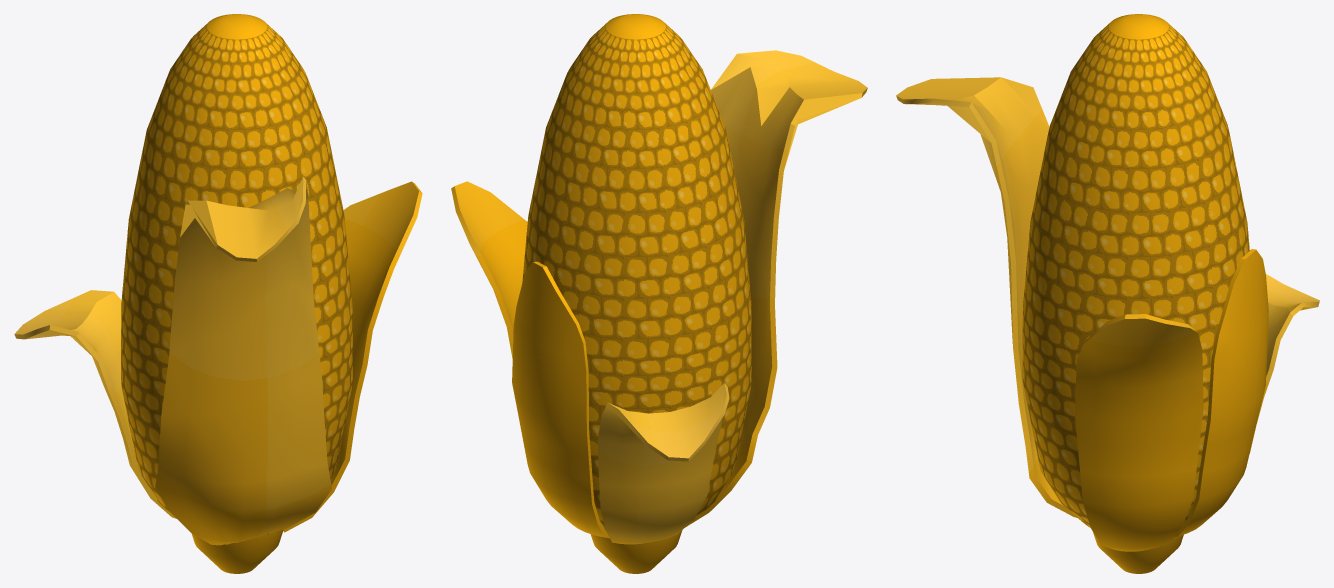
Rendered from Corn.fbx.
3 renders of one model, left to right at view 1: azimuth 30°, elevation 25°; view 2: azimuth 150°, elevation 25°; view 3: azimuth 270°, elevation 25°, orthographic.
Visible parts, largest first — view 1: Cylinder; view 2: Cylinder; view 3: Cylinder.
Part boxes in pixels (box(x1,y1,x2,y2)): Cylinder: box(14, 14, 422, 573); Cylinder: box(451, 14, 867, 573); Cylinder: box(896, 14, 1319, 573).
Size of the model in its own units: 135 by 216 by 152.
